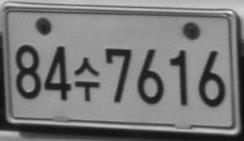1: (167, 49, 195, 105)
4: (43, 45, 71, 100)
6: (136, 48, 164, 105), (198, 50, 225, 108)
7: (104, 47, 132, 102)
8: (14, 43, 41, 100)
수: (74, 57, 100, 102)
